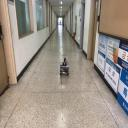cart: (60, 62, 70, 76)
